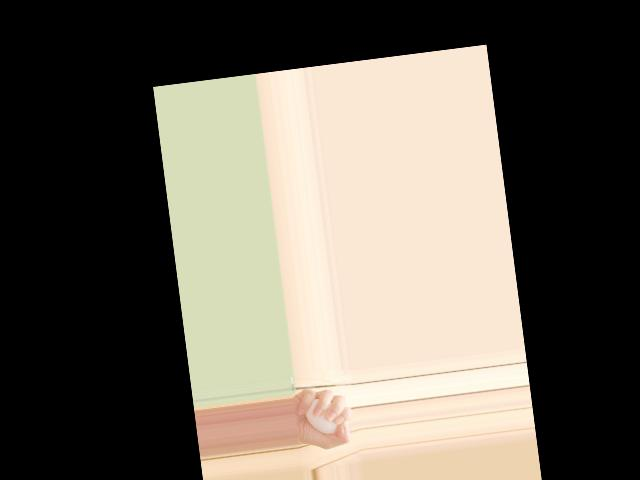egg: (303, 396, 338, 436)
